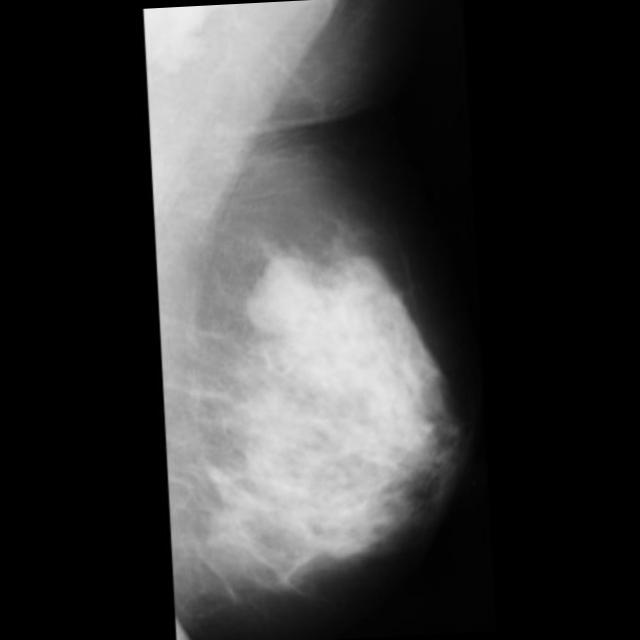CIRC: (256, 253, 324, 321)
